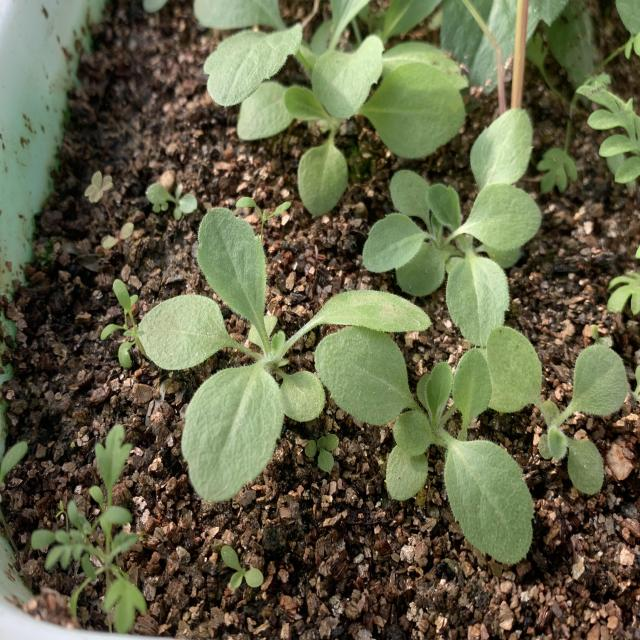horseweed: (143, 220, 403, 511), (320, 336, 562, 553), (202, 2, 444, 213), (377, 108, 550, 333)
